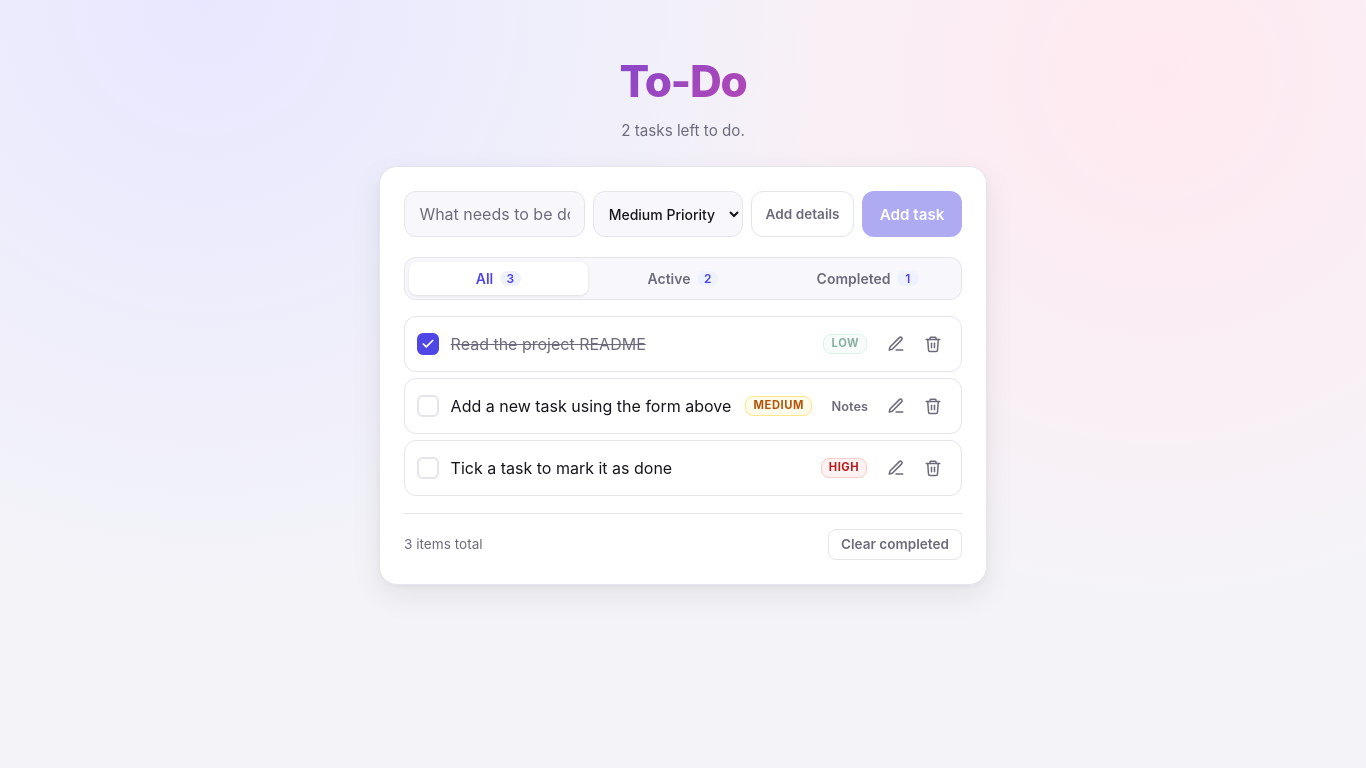
Test: To-do app › discards an edit when cancelled
This screenshot has width=1366, height=768.
Click the button named "Edit task: Tick a task to mark it as done" at (896, 468), box x1=879 y1=452 x2=912 y2=484
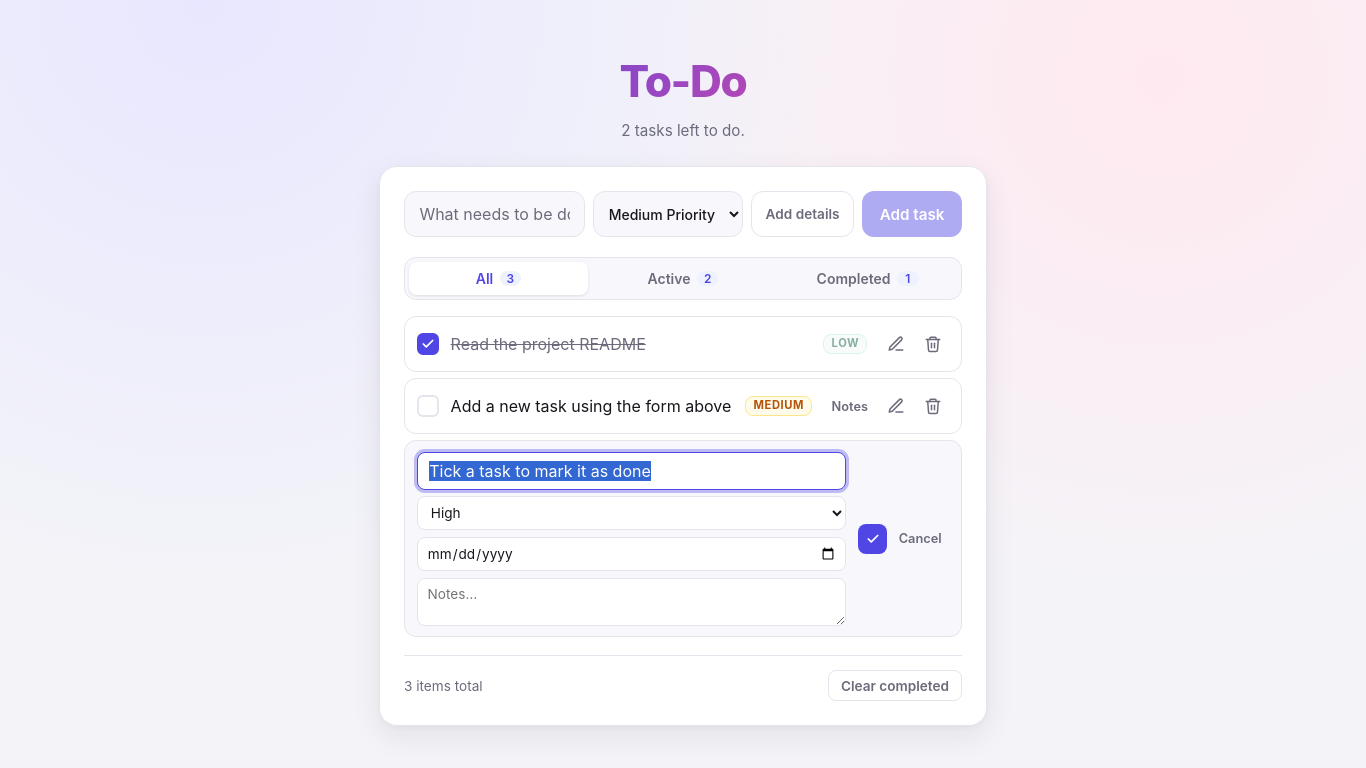
Replace the text in the field named "Edit task: Tick a task to mark it as done" with "This should be discarded" at (632, 471), box x1=417 y1=452 x2=846 y2=490
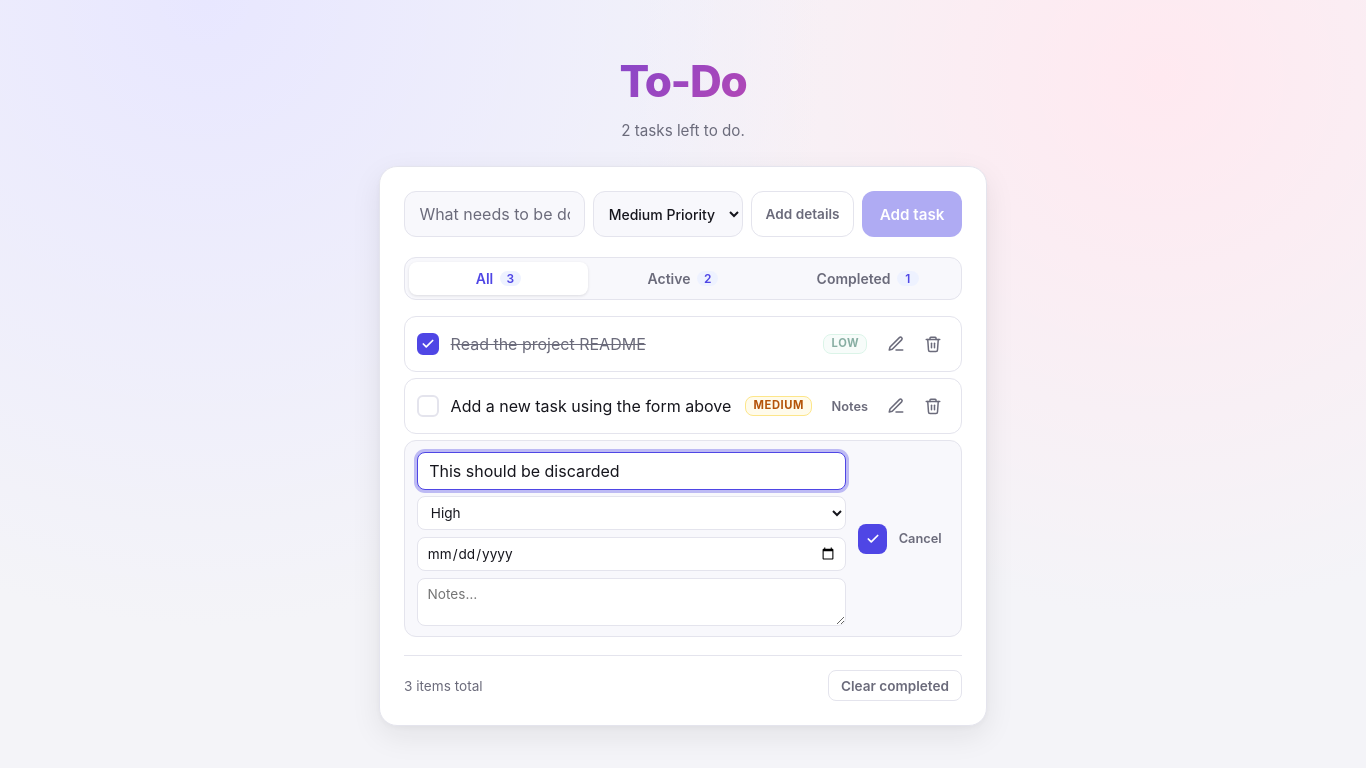
Click the button with aria-label "Cancel editing" at (920, 539), box x1=891 y1=524 x2=949 y2=554
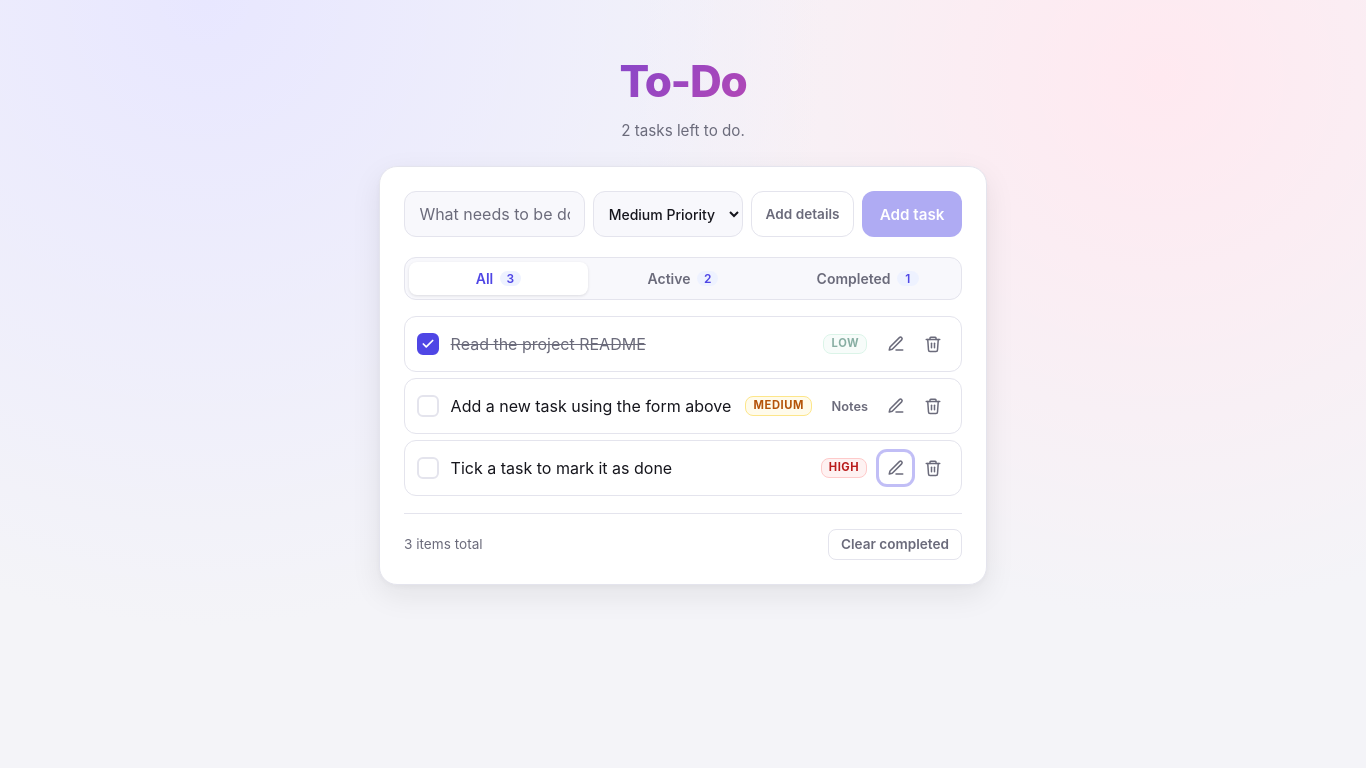
Expected: the text "This should be discarded" is not shown
Expected: the text "Tick a task to mark it as done" is shown, x1=451 y1=458 x2=672 y2=478
